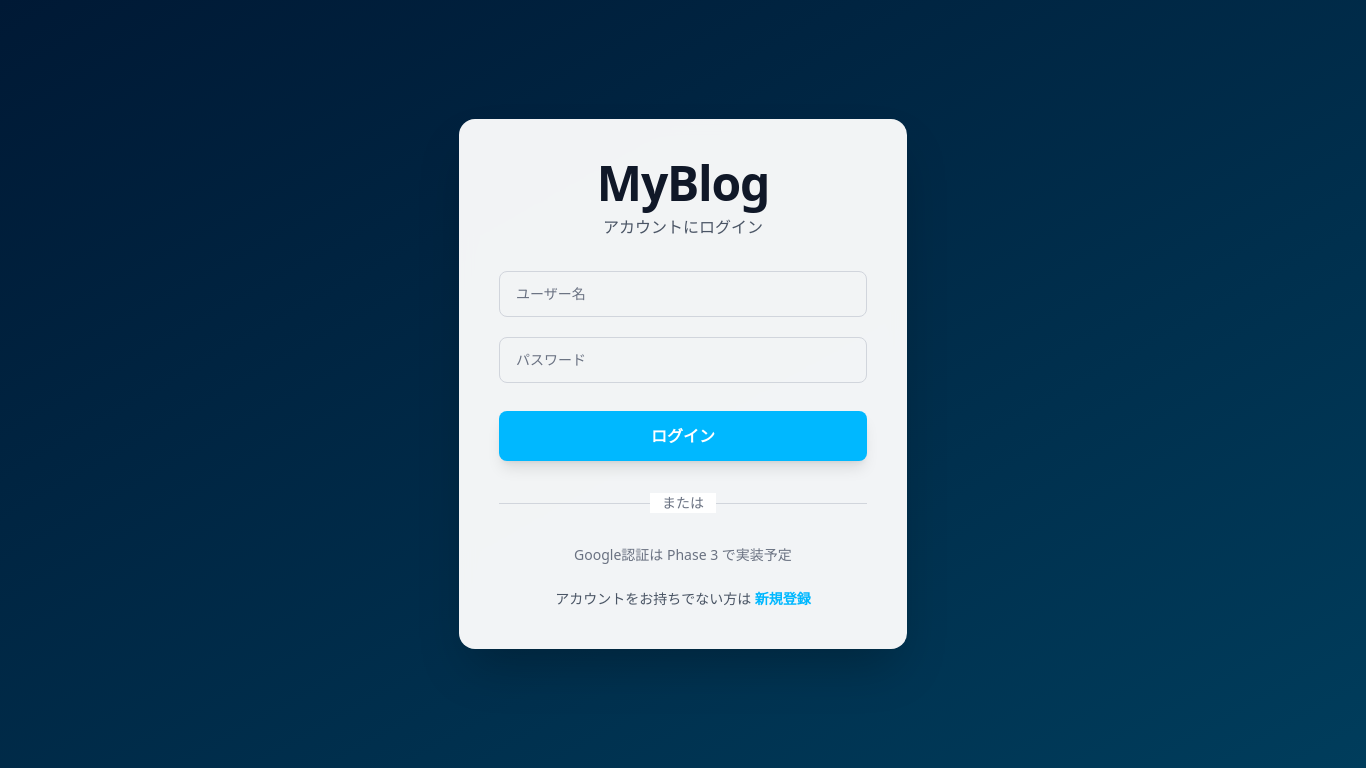
it: LoginPage › ログイン機能 › ログイン中はボタンが無効化され、テキストが変わる
Type "testuser" into the field with placeholder "ユーザー名" at (683, 294), box [499, 271, 867, 317]
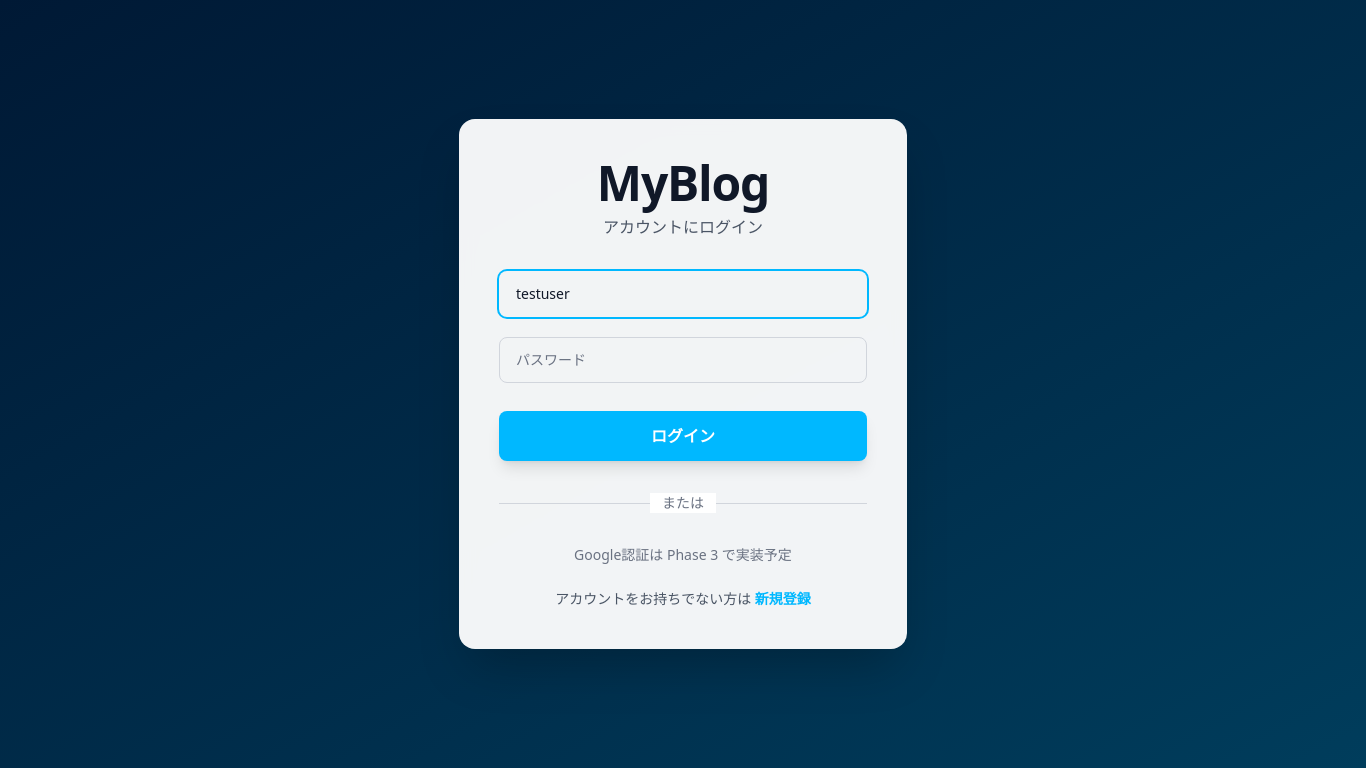
Type "password123" into the password field with placeholder "パスワード" at (683, 360), box [499, 337, 867, 383]
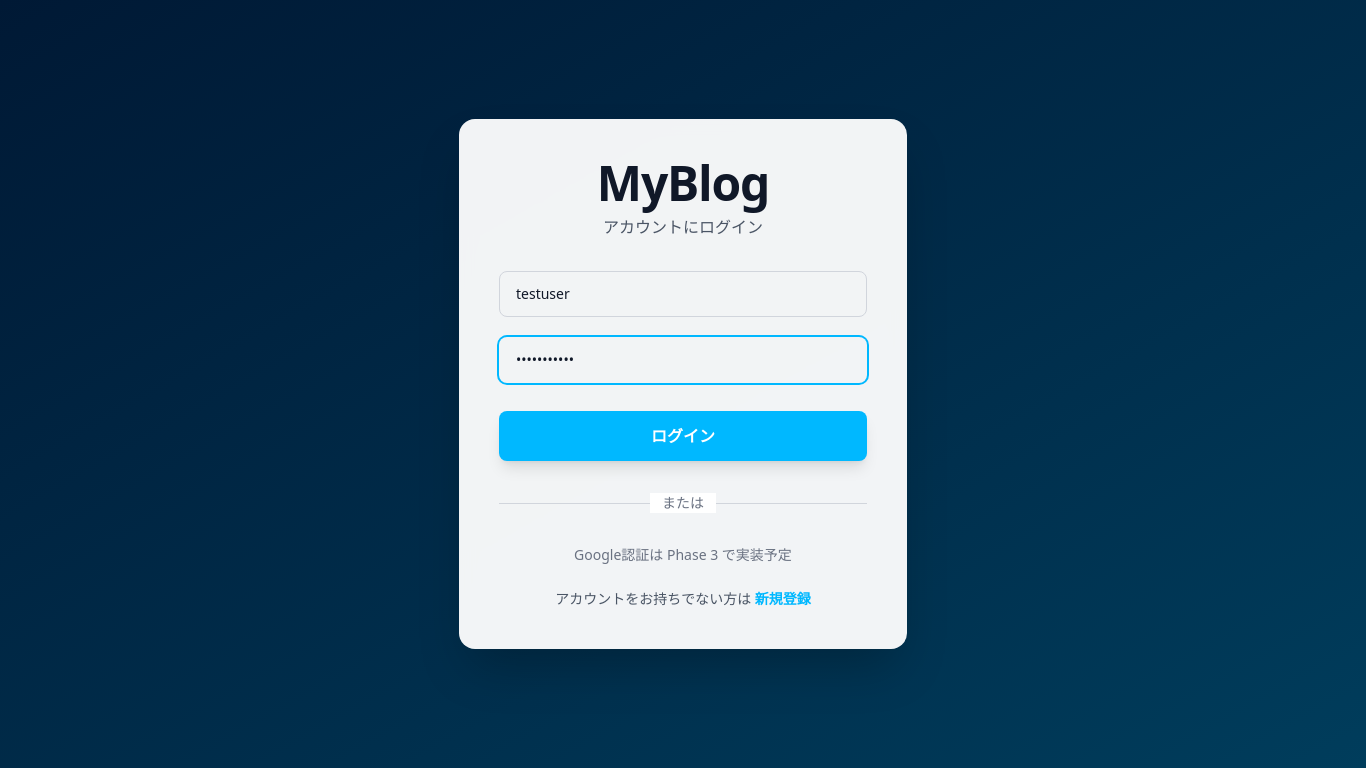
Click the button "ログイン" at (683, 436), box [499, 411, 867, 461]
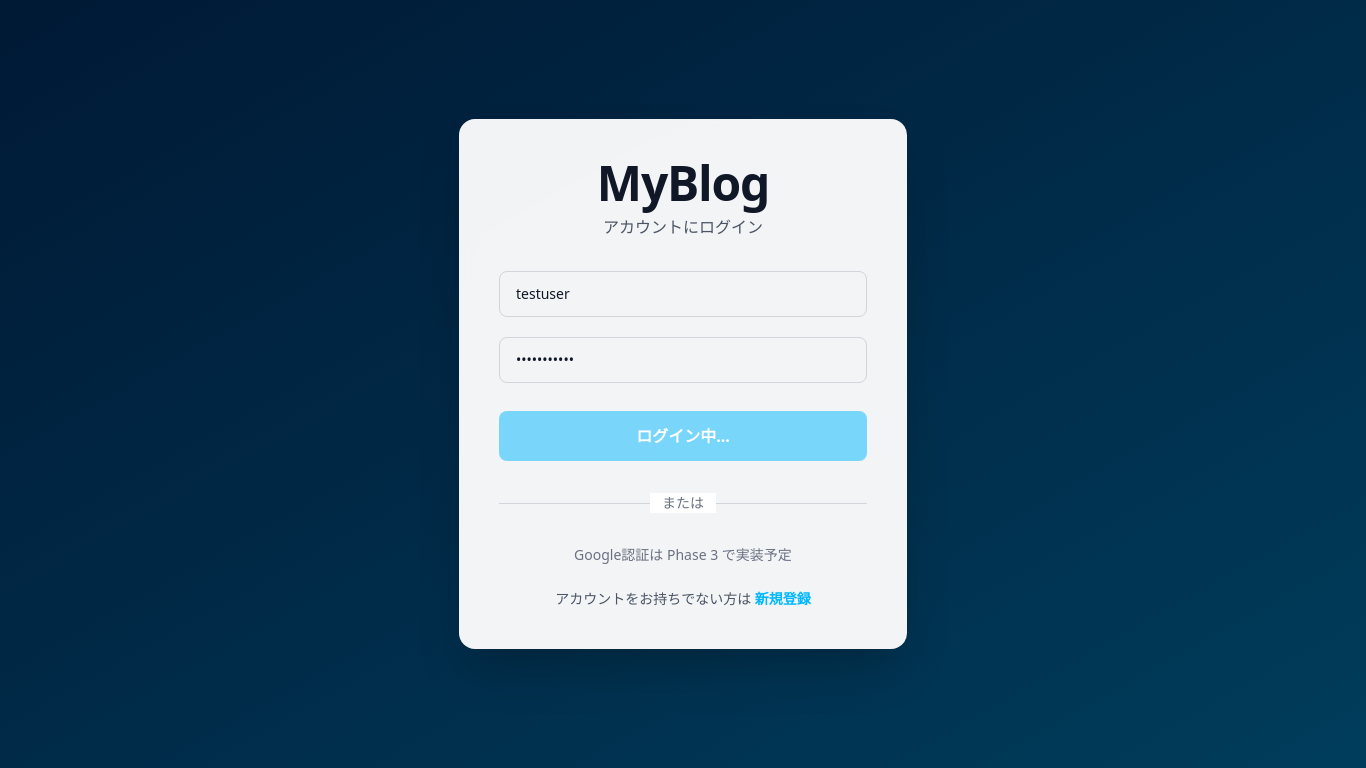
Expected: the button "ログイン中..." is disabled, [499, 411, 867, 461]
